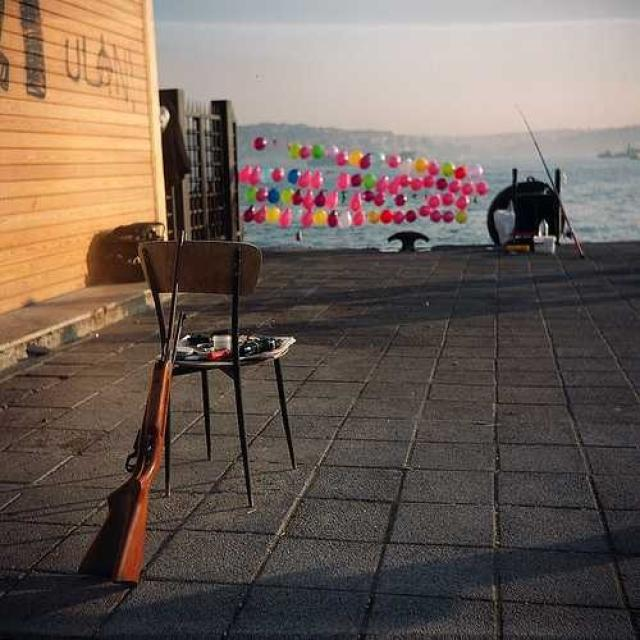heavyweapon: (76, 201, 214, 603)
